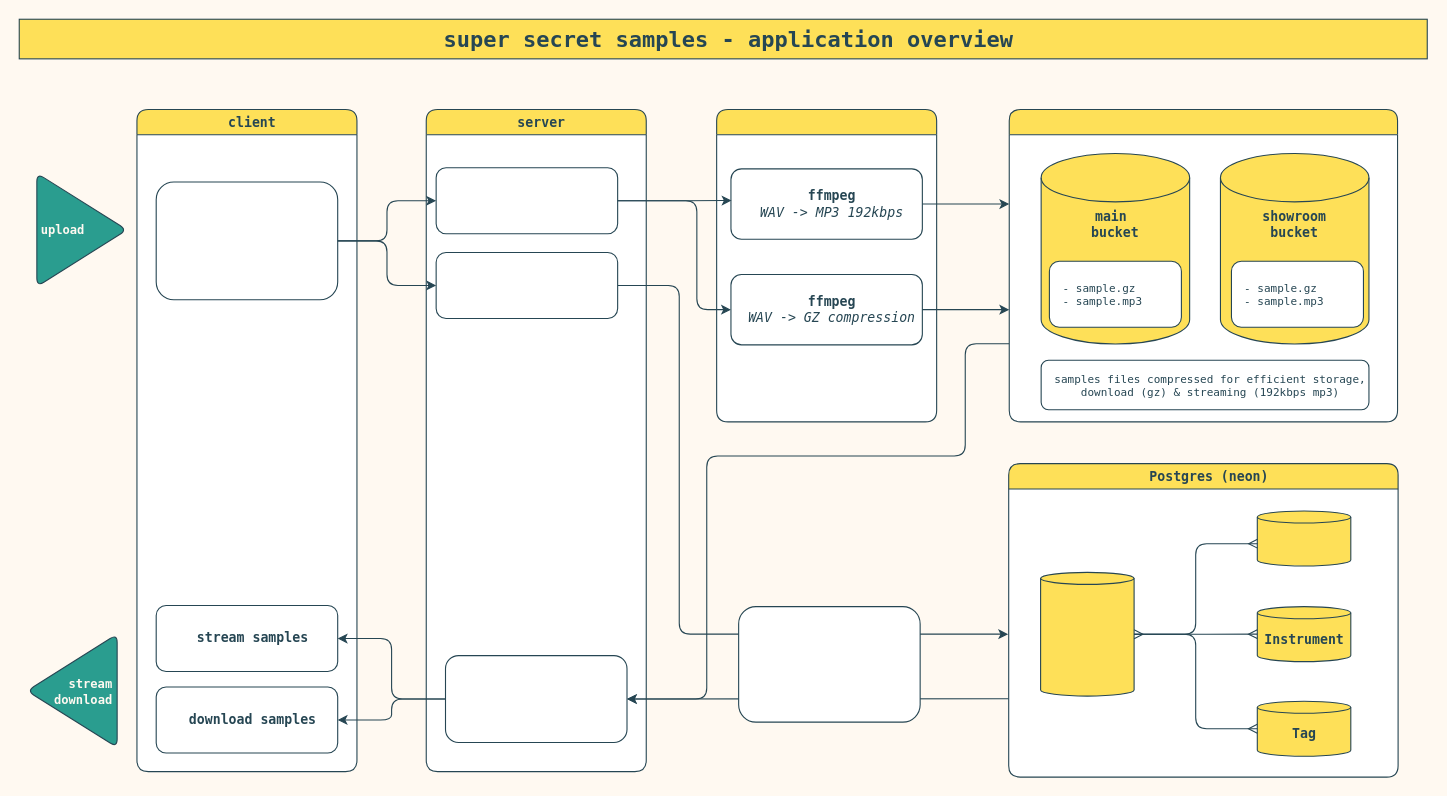
Image size: 1447x796. Some labels were removed from this diagram. Each missing label, with the box of its shape:
AWS S3: (1008, 108, 1398, 422)
fetch samples - fetch files - filter samples: (444, 654, 627, 743)
Genre: (1256, 510, 1351, 566)
Prisma ORM: (738, 606, 920, 722)
Sample: (1040, 571, 1134, 696)
sample files: (435, 167, 618, 234)
sample metadatas: (435, 251, 618, 318)
sample processing: (716, 108, 937, 422)
sample upload form - drop sample files - fill metadatas: (155, 181, 338, 300)
